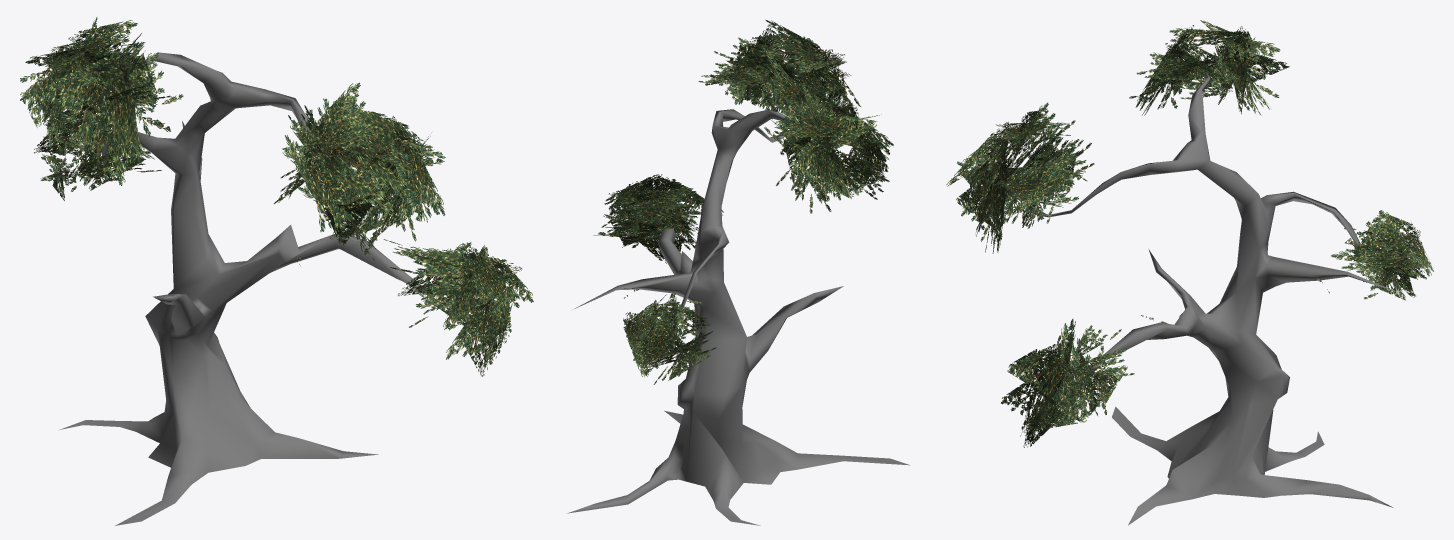
The model's file is ekytree_lod2.fbx.
3 views of the same model, side by side, from view 1: azimuth 30°, elevation 25°; view 2: azimuth 150°, elevation 25°; view 3: azimuth 270°, elevation 25° (orthographic). The views are drawn at different scales.
Parts seen in each view (by area): view 1: Default_Layer; view 2: Default_Layer; view 3: Default_Layer.
Part boxes in pixels (x1=…): Default_Layer: x1=20, y1=17, x2=533, y2=525; Default_Layer: x1=567, y1=20, x2=909, y2=525; Default_Layer: x1=946, y1=20, x2=1433, y2=525.
Size of the model in its own units: 1598 by 1654 by 1823.
